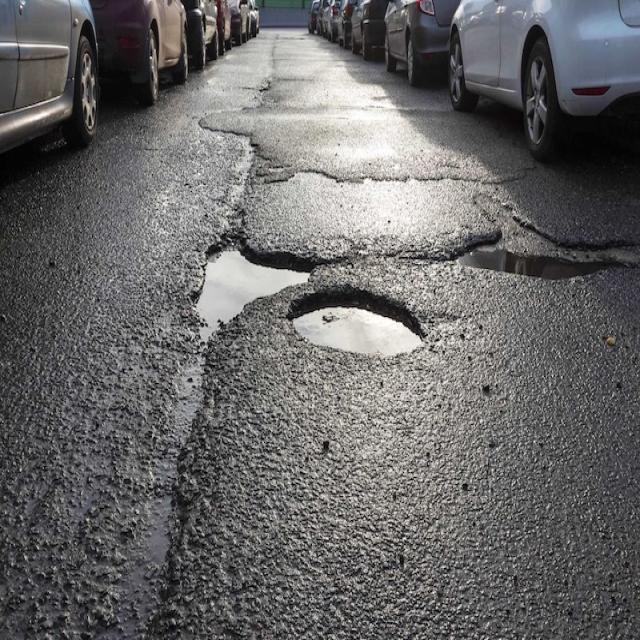p4: (288, 286, 427, 375), (196, 250, 310, 342), (457, 249, 626, 280)
